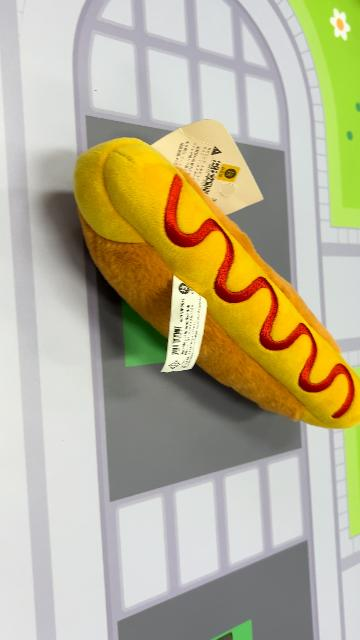hotdog: (73, 136, 359, 430)
